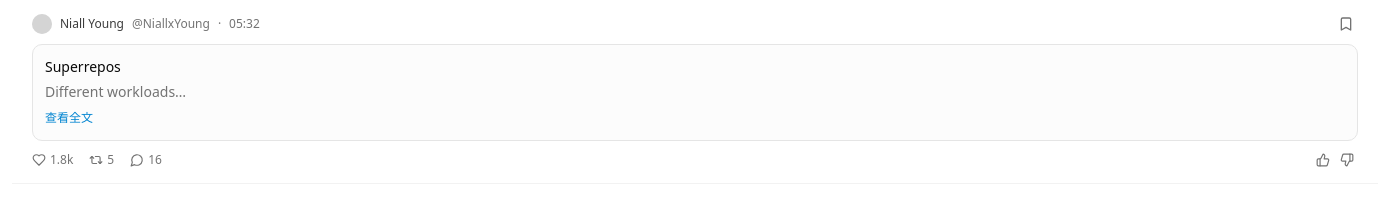
Scenario: XCard › offers 查看全文 once the body exists, and opens the pane instead of expanding
Step 1. Click the button "查看全文" → (69, 118), box [45,110,93,126]
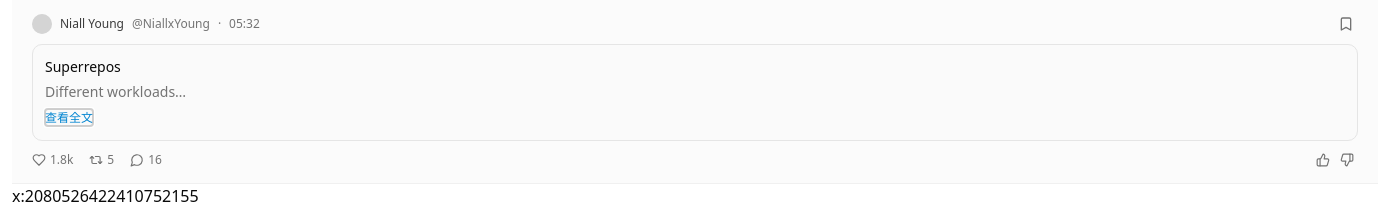
Expected: the text with test id "open-key" reads "x:2080526422410752155", [12,185,199,207]
